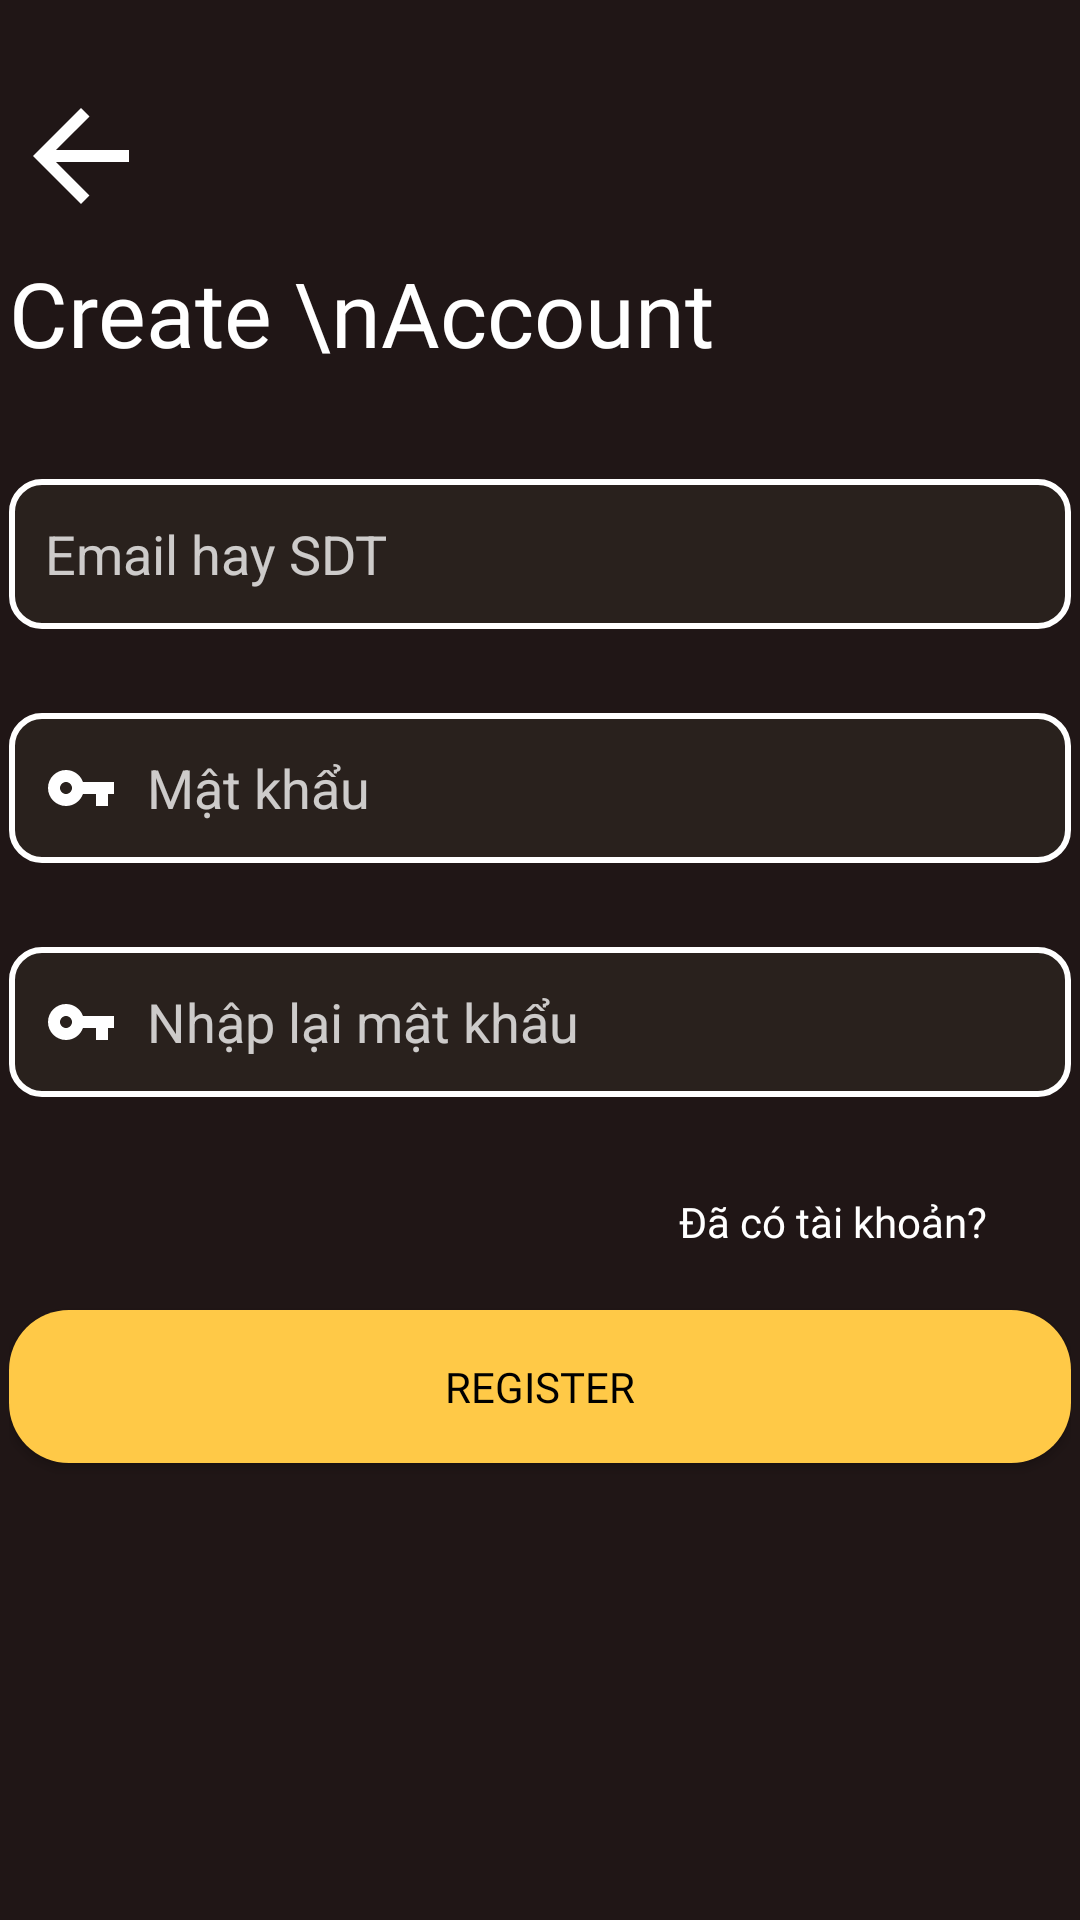

Icon click points for this 1080x1920 phone screenshot, format (x,y):
arrow back: (81,156)
